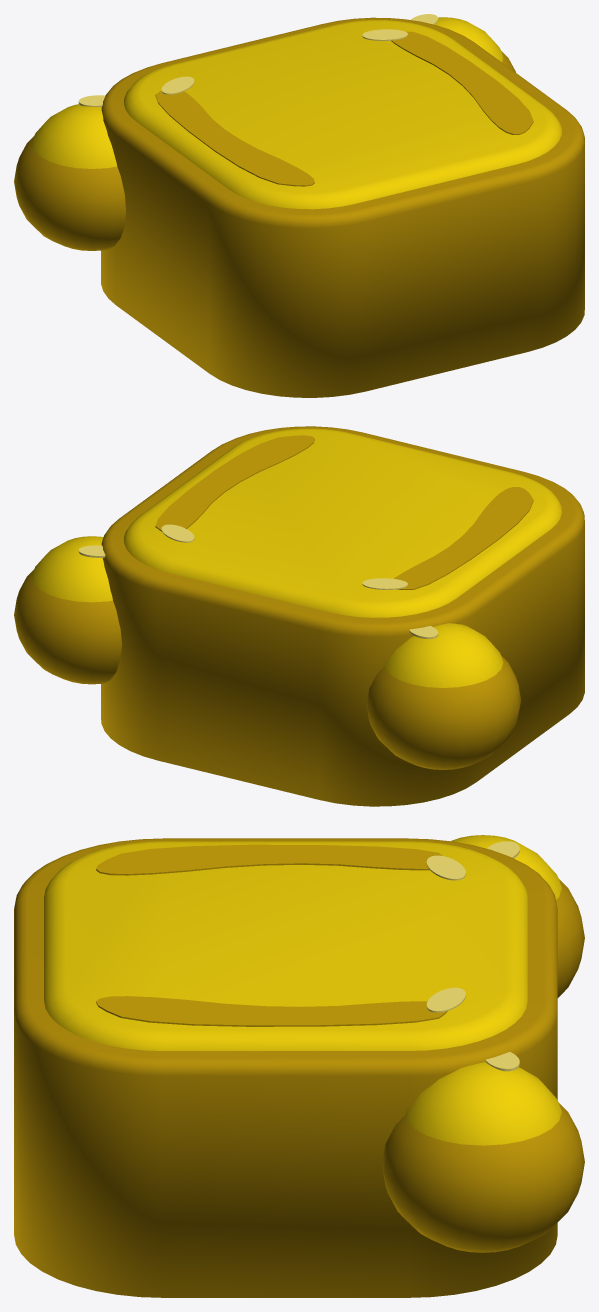
File: body_basico_dourado.fbx
3 renders of one model, top to bottom at view 1: azimuth 30°, elevation 25°; view 2: azimuth 150°, elevation 25°; view 3: azimuth 270°, elevation 25°, orthographic. The views are drawn at different scales.
Visible parts, largest first — view 1: body_basico_dourado_corpo, body_basico_dourado_mao_esq, body_basico_dourado_mao; view 2: body_basico_dourado_corpo, body_basico_dourado_mao_esq, body_basico_dourado_mao; view 3: body_basico_dourado_corpo, body_basico_dourado_mao, body_basico_dourado_mao_esq.
Part boxes in pixels (bbox=[...]): body_basico_dourado_corpo: bbox=[101, 17, 584, 397]; body_basico_dourado_mao_esq: bbox=[14, 95, 125, 250]; body_basico_dourado_mao: bbox=[411, 14, 515, 72]; body_basico_dourado_corpo: bbox=[101, 426, 584, 806]; body_basico_dourado_mao_esq: bbox=[366, 623, 520, 769]; body_basico_dourado_mao: bbox=[14, 536, 121, 684]; body_basico_dourado_corpo: bbox=[14, 838, 557, 1297]; body_basico_dourado_mao: bbox=[382, 1052, 584, 1252]; body_basico_dourado_mao_esq: bbox=[451, 835, 584, 997].
Bounding box in the file's own units: 5.4 × 2.03 × 4.2.
Materials: 1 (1 with a texture image).
